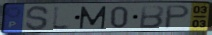0: (109, 6, 131, 30)
B: (138, 5, 166, 30)
L: (51, 4, 74, 32)
M: (78, 5, 108, 30)
P: (162, 4, 192, 30)
S: (24, 5, 51, 32)
